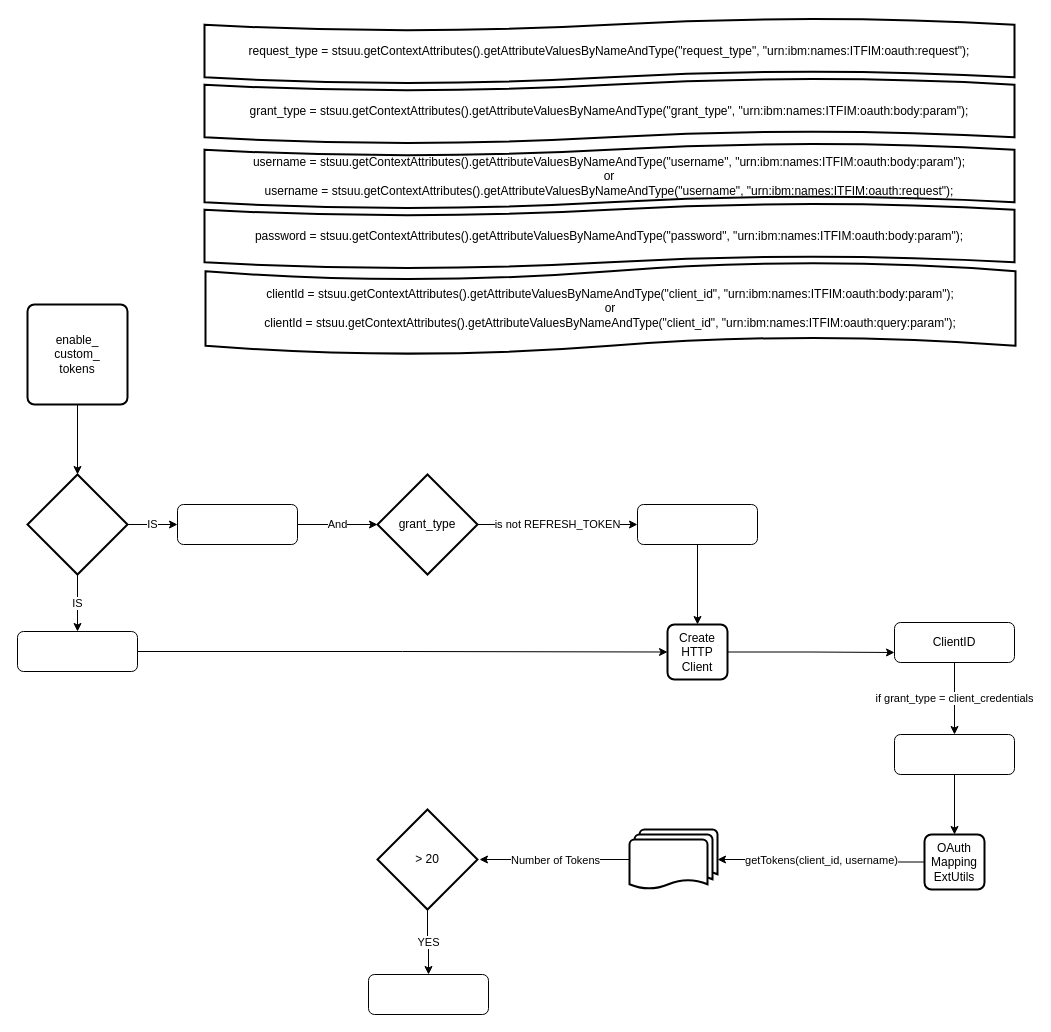
Image size: 1051x1032. Some labels were removed from this diagram. The centre of each missing label's shape, as x and y in pixels:
"access_token" belongs at point 77,651.
"authorization" belongs at point 237,524.
"Error" belongs at point 428,994.
"Password" belongs at point 697,524.
"request_type" belongs at point 77,524.
"username = client_id;" belongs at point 954,754.
